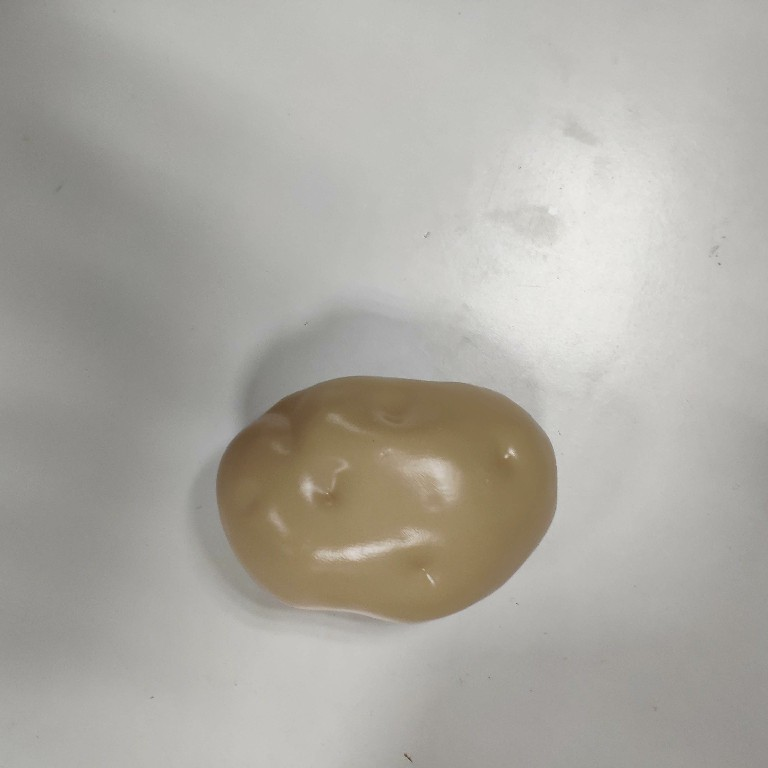fruit_potato: (211, 373, 561, 626)
